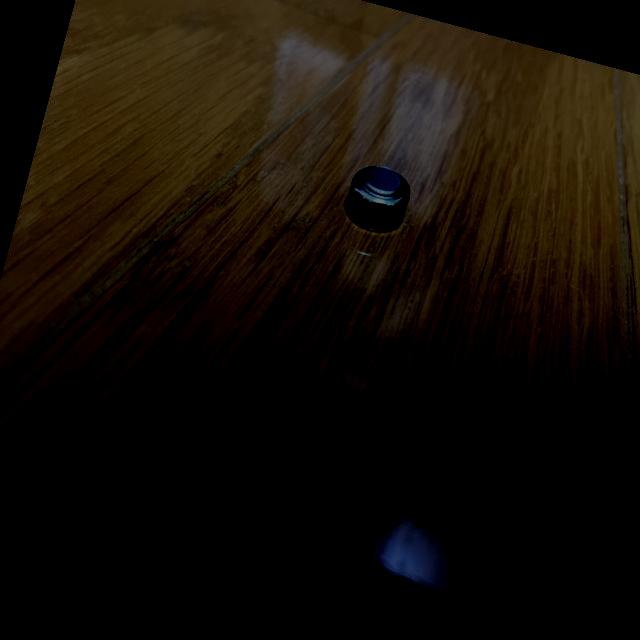COIN: (338, 156, 416, 240)
